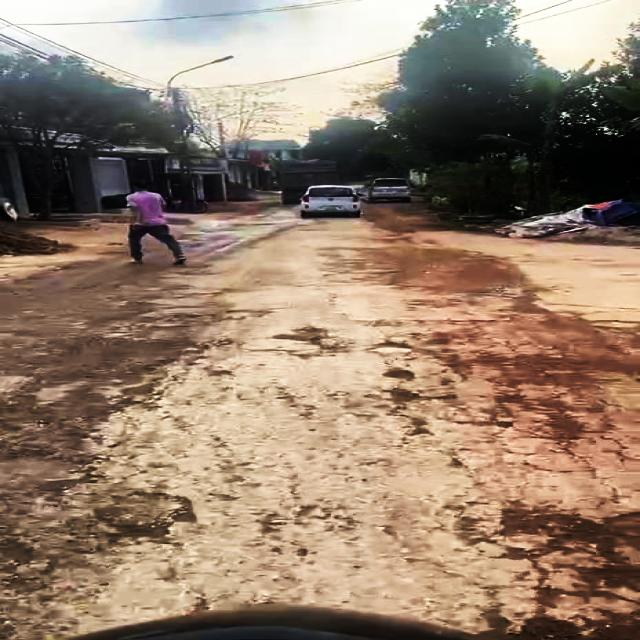pothole: (496, 511, 640, 640), (90, 501, 190, 552), (0, 541, 57, 597)
